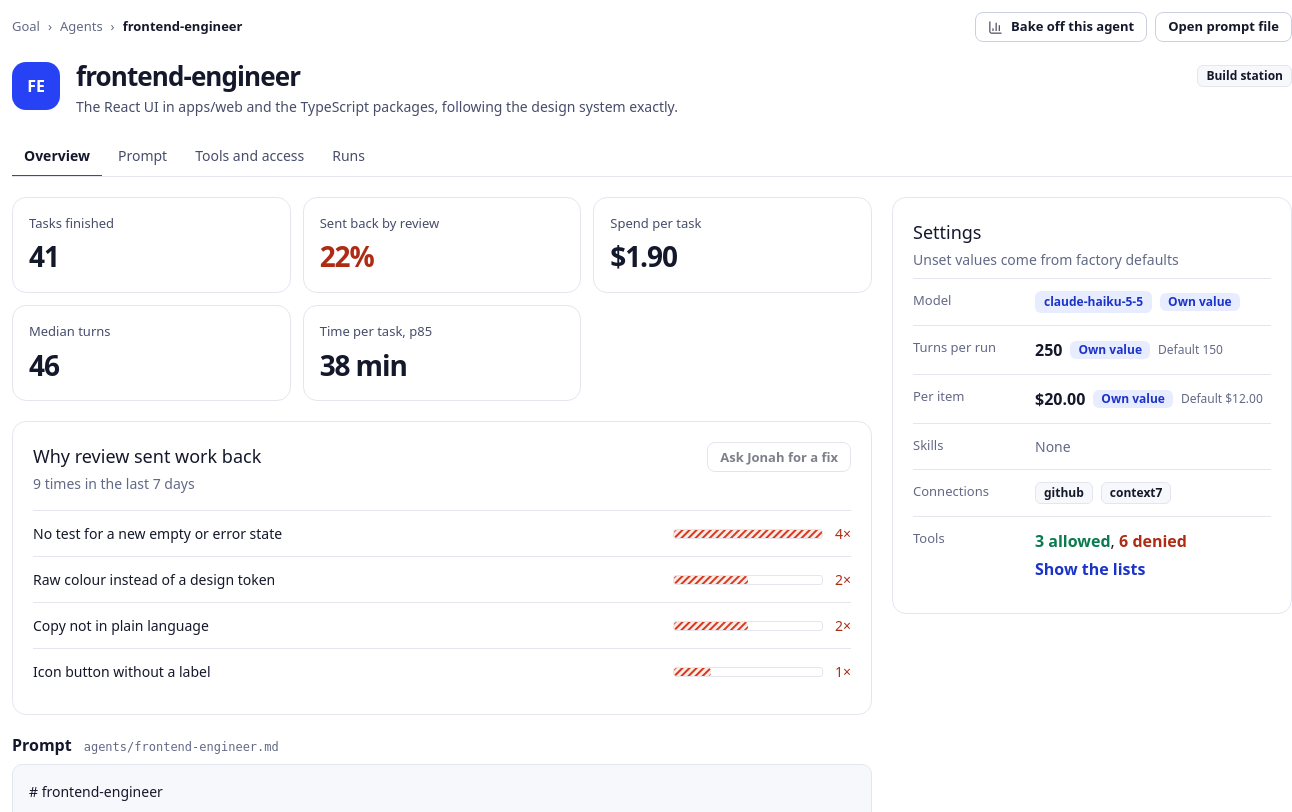
Test: Bake off this agent › is busy and disabled while the start is pending
The width and height of the screenshot is (1292, 812).
Expected: the heading "frontend-engineer" is shown, [76, 58, 300, 94]
Click the button "Bake off this agent".
click(1061, 27)  # box [975, 12, 1147, 42]
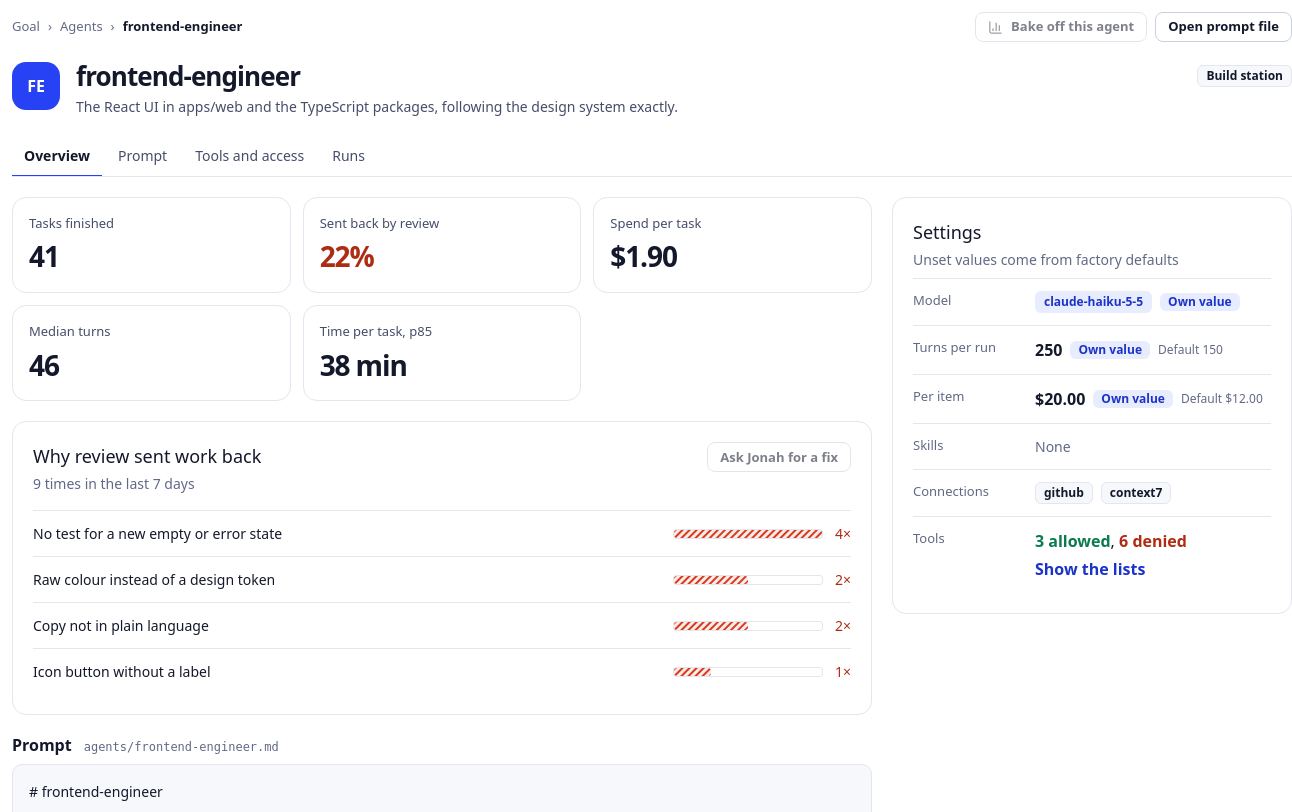
Expected: the button "Bake off this agent" is disabled, [975, 12, 1147, 42]
